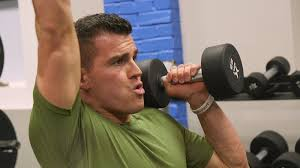face: (93, 34, 151, 116)
